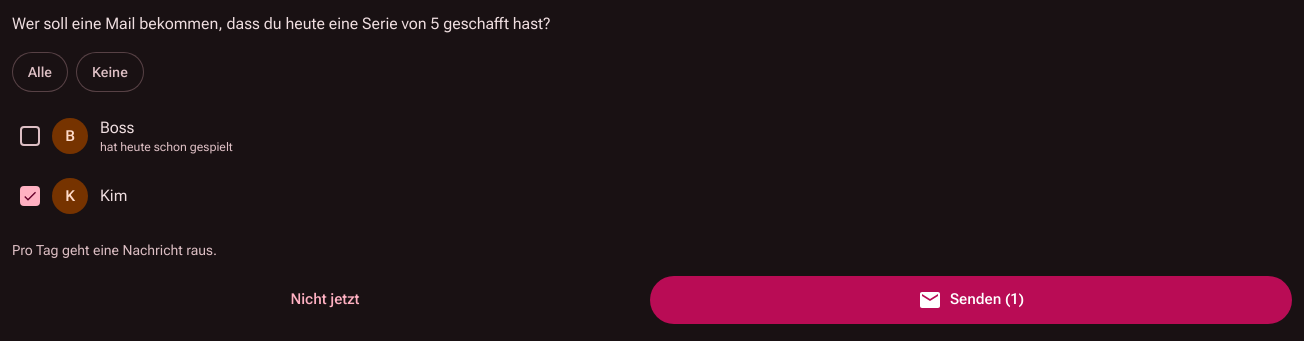
telling friends after the round › nobody chosen: nothing to send
Click the button "Keine".
click(110, 72)  # box top-left (76, 52), bottom-right (144, 92)
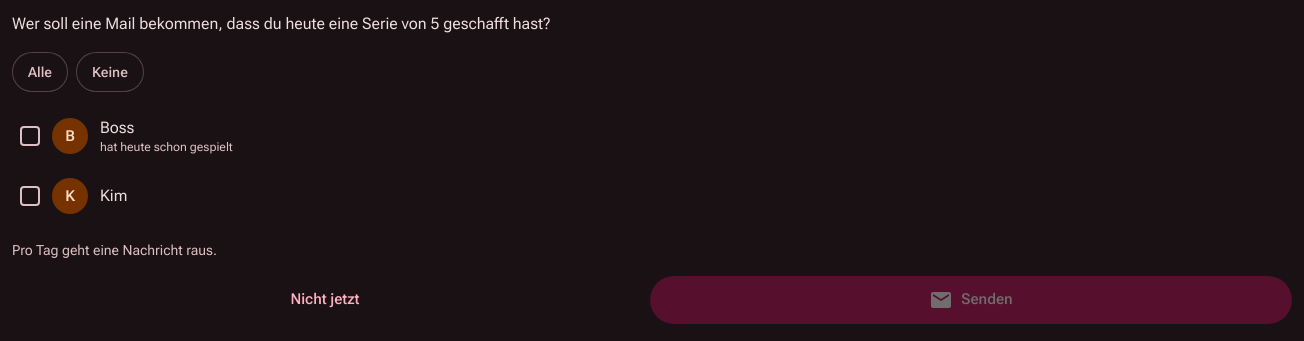
Expected: the button "Senden" is disabled, top-left (650, 276), bottom-right (1292, 324)
